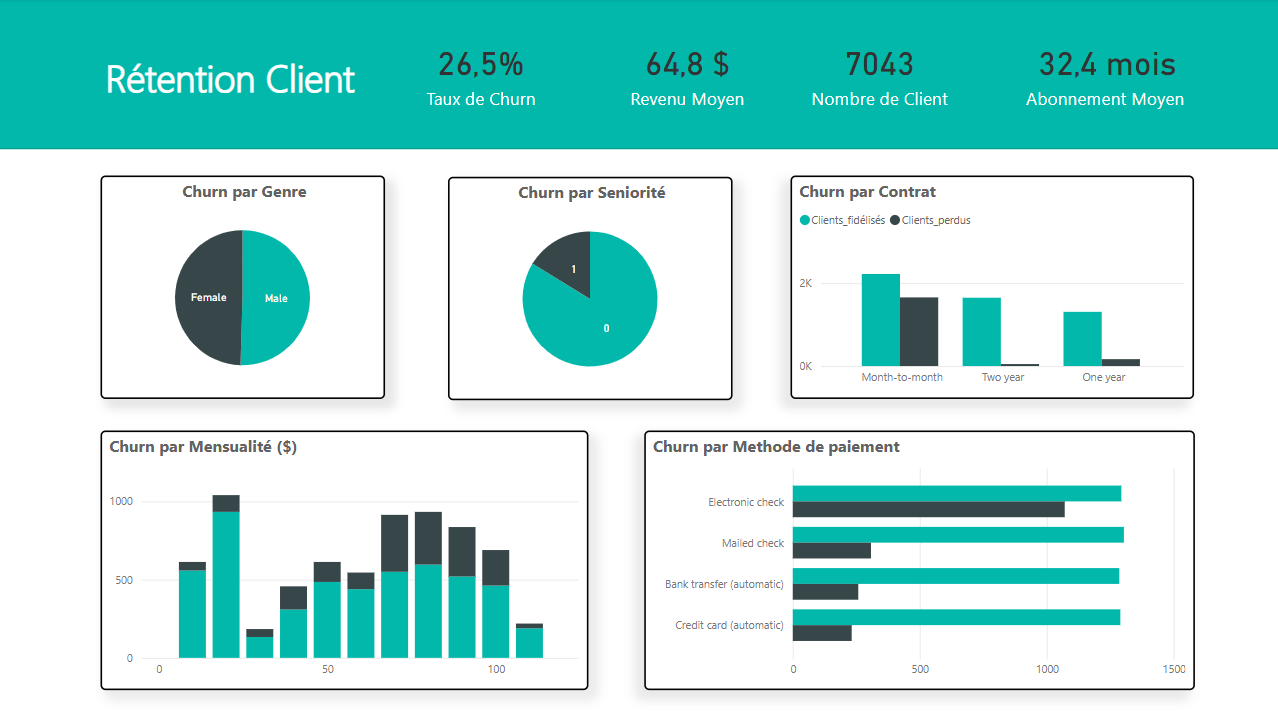

The dashboard page shown, as its layout file describes it:
{"tool":"powerbi","page":{"name":"Page 1","canvas":[1280,720],"ordinal":0},"visuals":[{"type":"shape","box":[0,0,1280.5,150.6],"z":0},{"type":"card","fields":{"Values":["CH.RevenuMoyenParClient"]},"box":[580.2,11.4,213,124.7],"z":2000},{"type":"card","fields":{"Values":["CountNonNull(CH.customerID)"]},"box":[786,11.7,182.5,125],"z":3000},{"type":"clusteredBarChart","title":"Churn par Methode de paiement","fields":{"Y":["CH.ClientsChurnNo2","CH.ClientsChurnYes2"],"Category":["CH.PaymentMethod"]},"box":[642.9,429.9,548.1,258.4],"z":4000},{"type":"clusteredColumnChart","title":"Churn par Contrat","fields":{"Y":["CH.ClientsChurnNo2","CH.ClientsChurnYes2"],"Category":["CH.Contract"]},"box":[788.3,176.6,401.3,222.1],"z":5000},{"type":"lineStackedColumnComboChart","title":"Churn par Mensualité ($)","fields":{"Y":["CH.ClientsChurnNo2","CH.ClientsChurnYes2"],"Category":["CH.MonthlyCharges (compartiments)"]},"box":[102.6,430.2,485.7,258.4],"z":6000},{"type":"card","fields":{"Values":["Avg(CH.tenure)"]},"box":[961.3,11.7,285.7,125],"z":7000},{"type":"pieChart","title":"Churn par Genre","fields":{"Y":["CountNonNull(CH.Churn)"],"Category":["CH.gender"]},"box":[102.6,177,283,222.1],"z":8000},{"type":"pieChart","title":"Churn par Seniorité","fields":{"Y":["CountNonNull(CH.Churn)"],"Category":["CH.SeniorCitizen"]},"box":[448.1,177.9,283.1,222.1],"z":9000},{"type":"card","fields":{"Values":["CH.TauxChurnGlobal"]},"box":[374.3,11.4,213,124.7],"z":9001},{"type":"textbox","box":[102.6,48.1,275.3,68.8],"z":9002}]}

Visuals, with their boxes in screenshot pixels (x1, y1, x2, y2), scaled from the page's 1280x720 canvas onto the 1278x717 screenshot:
shape: x1=0 y1=0 x2=1277 y2=150
card - CH.RevenuMoyenParClient: x1=579 y1=11 x2=792 y2=136
card - CountNonNull(CH.customerID): x1=785 y1=12 x2=967 y2=136
"Churn par Methode de paiement" clusteredBarChart: x1=642 y1=428 x2=1189 y2=685
"Churn par Contrat" clusteredColumnChart: x1=787 y1=176 x2=1188 y2=397
"Churn par Mensualité ($)" lineStackedColumnComboChart: x1=102 y1=428 x2=587 y2=686
card - Avg(CH.tenure): x1=960 y1=12 x2=1245 y2=136
"Churn par Genre" pieChart: x1=102 y1=176 x2=385 y2=397
"Churn par Seniorité" pieChart: x1=447 y1=177 x2=730 y2=398
card - CH.TauxChurnGlobal: x1=374 y1=11 x2=586 y2=136
textbox: x1=102 y1=48 x2=377 y2=116
